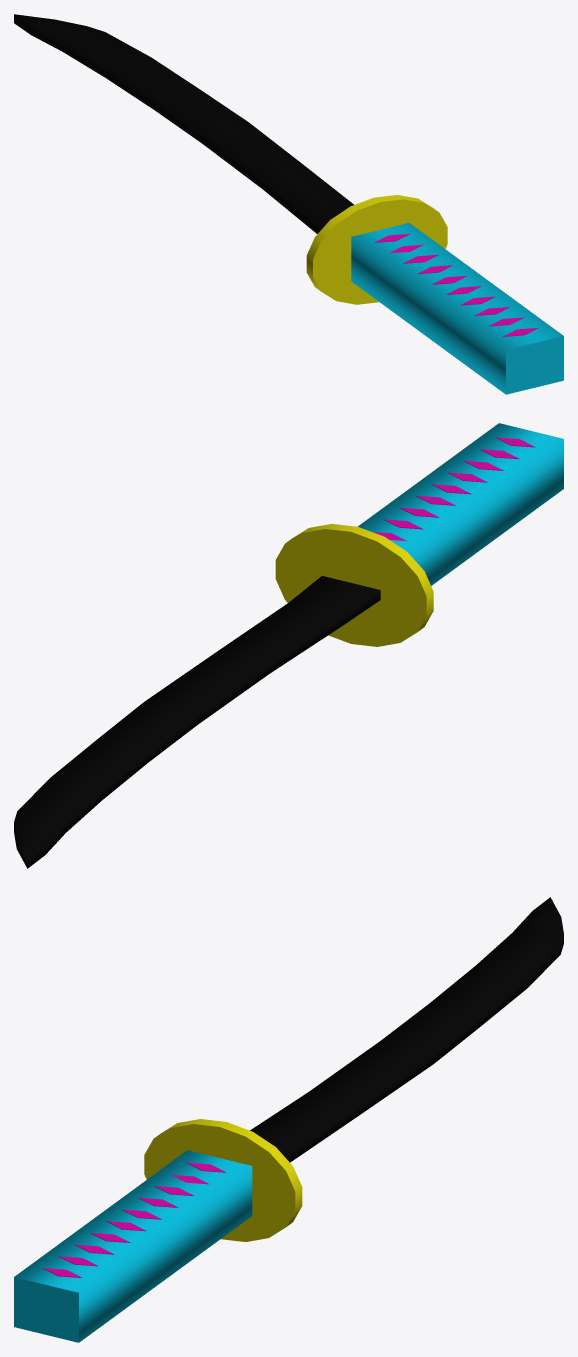
The model's file is katana.fbx.
3 views of the same model, one above another, from view 1: azimuth 30°, elevation 25°; view 2: azimuth 150°, elevation 25°; view 3: azimuth 330°, elevation 25° (orthographic). The views are drawn at different scales.
Visible parts, largest first — view 1: EXP_Katana; view 2: EXP_Katana; view 3: EXP_Katana.
Part boxes in pixels (bbox=[...]): EXP_Katana: bbox=[14, 14, 563, 394]; EXP_Katana: bbox=[14, 423, 563, 868]; EXP_Katana: bbox=[14, 897, 563, 1342].
Bounding box in the file's own units: 0.1336 × 0.0948 × 0.8334.
